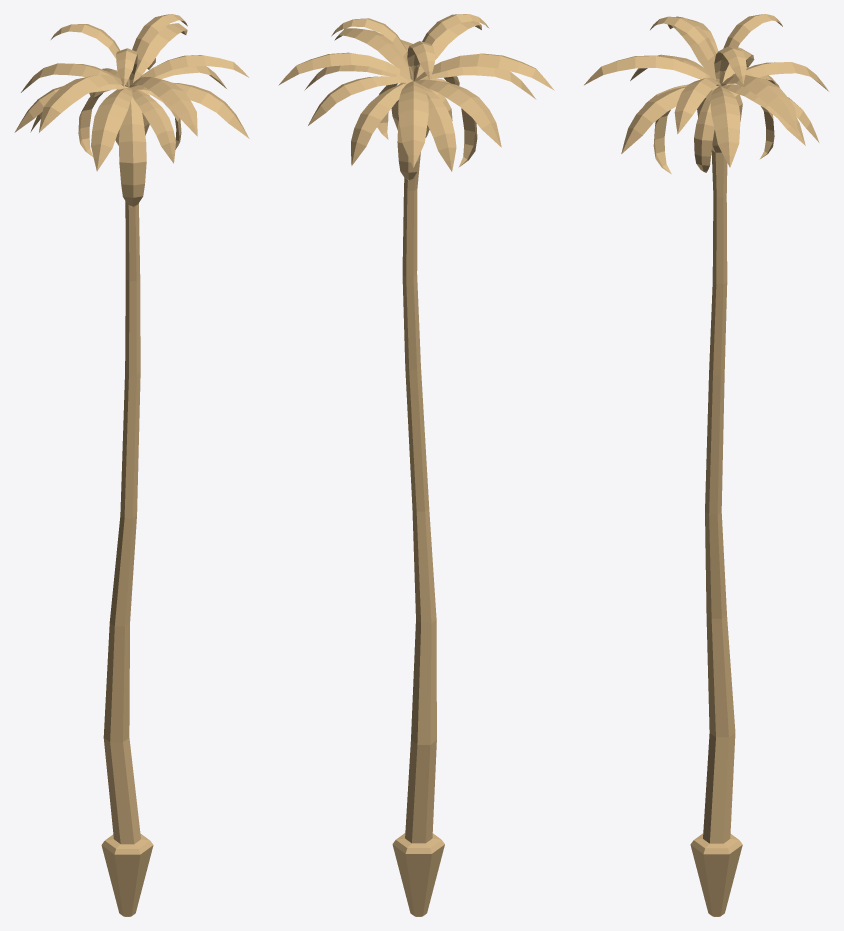
Rendered from Mega_Asset_s_Pack_Cylinder_009.FBX.
3 renders of one model, left to right at view 1: azimuth 30°, elevation 25°; view 2: azimuth 150°, elevation 25°; view 3: azimuth 270°, elevation 25°, orthographic.
Visible parts, largest first — view 1: Mega_Asset_s_Pack_Cylinder_009; view 2: Mega_Asset_s_Pack_Cylinder_009; view 3: Mega_Asset_s_Pack_Cylinder_009.
Boxes of the visible parts, x1,y1,x2,y2 form: Mega_Asset_s_Pack_Cylinder_009: (14,14,249,916); Mega_Asset_s_Pack_Cylinder_009: (278,14,554,916); Mega_Asset_s_Pack_Cylinder_009: (584,14,828,916).
Size of what is drawn, in the model's own units: 418 by 406 by 1613.
